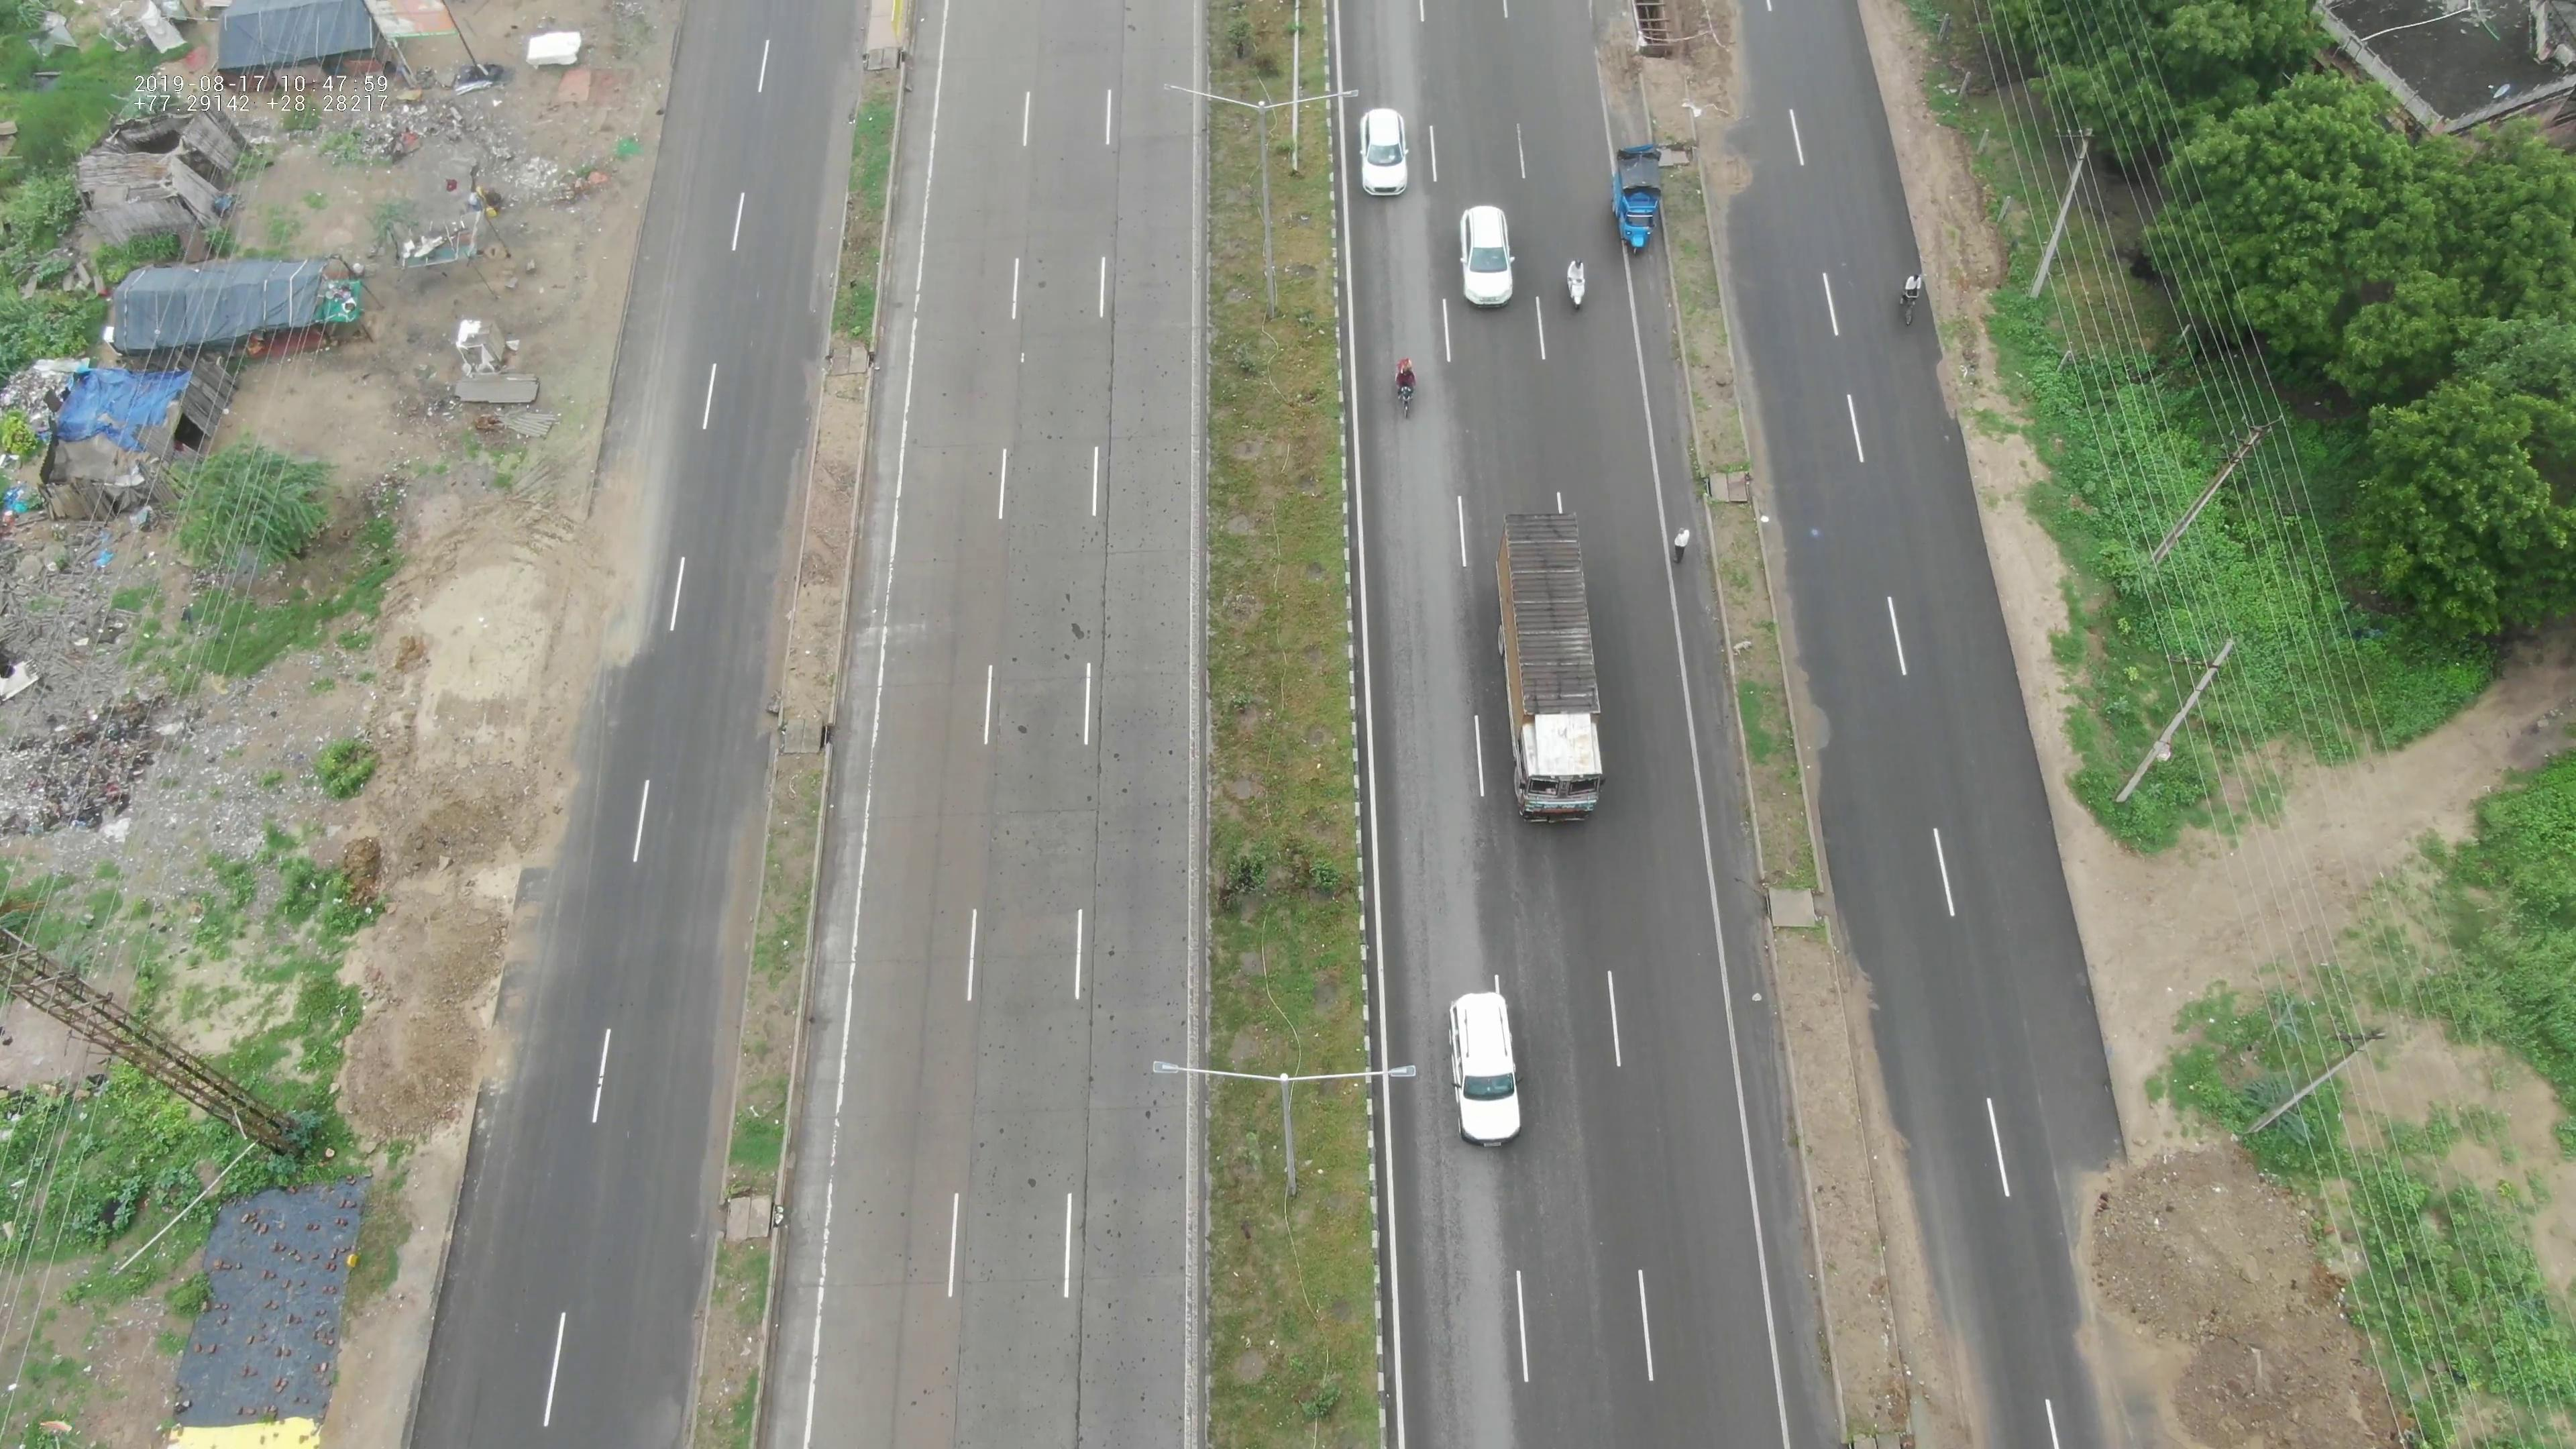Mud_heaps: (2072, 1129, 2387, 1440), (333, 768, 517, 1132)
